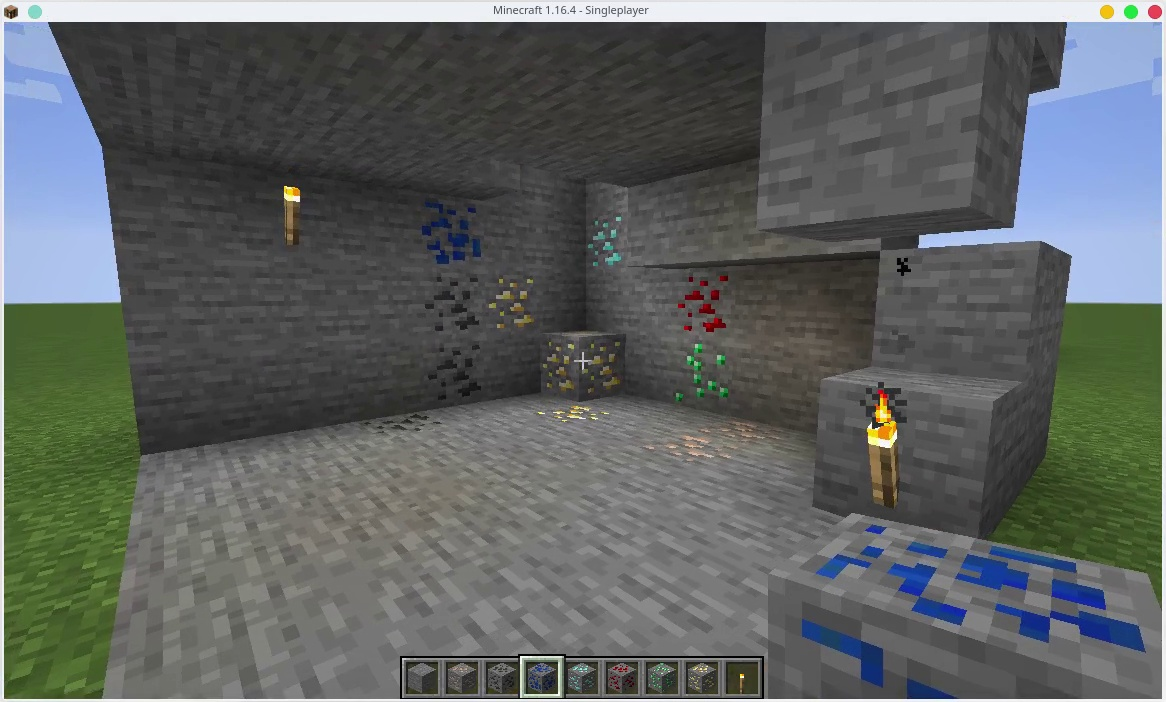gold: (535, 330, 625, 395), (484, 279, 533, 329), (531, 405, 618, 418), (687, 664, 720, 694)
